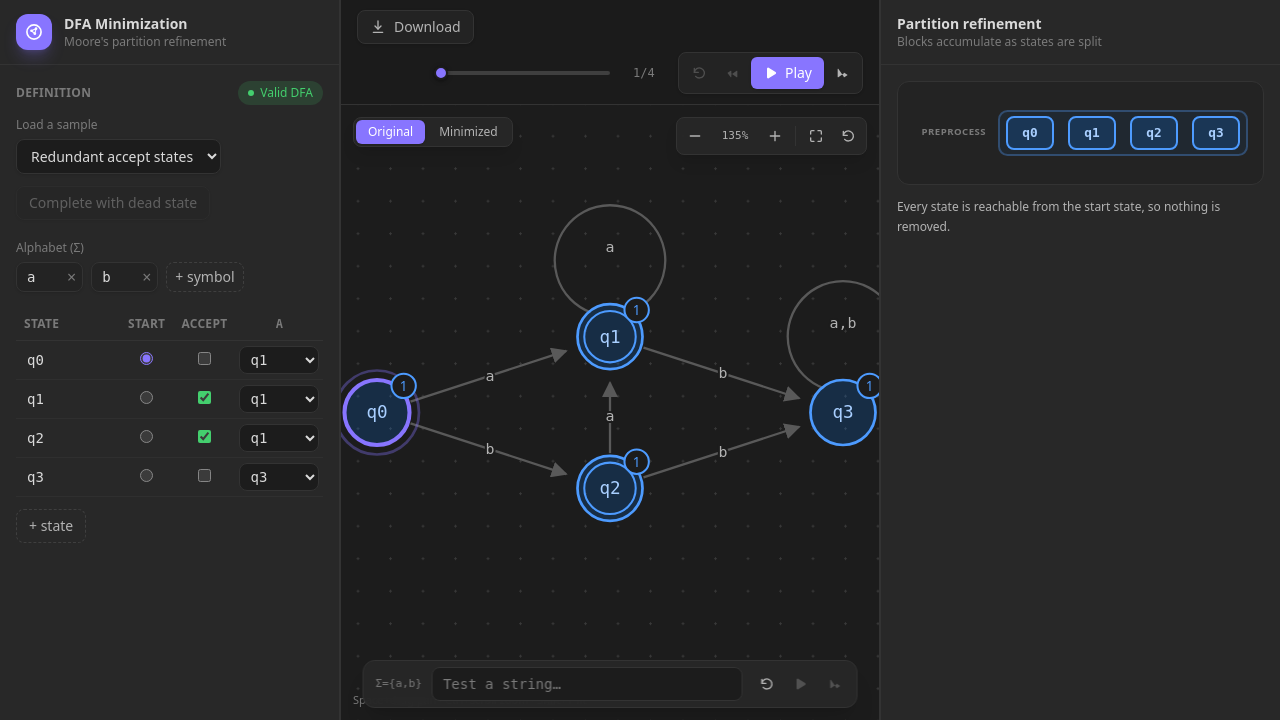
Test case: App › keeps earlier partition steps visible as you advance
Click the button named "next step". click: (842, 73)
box: [826,57,858,89]
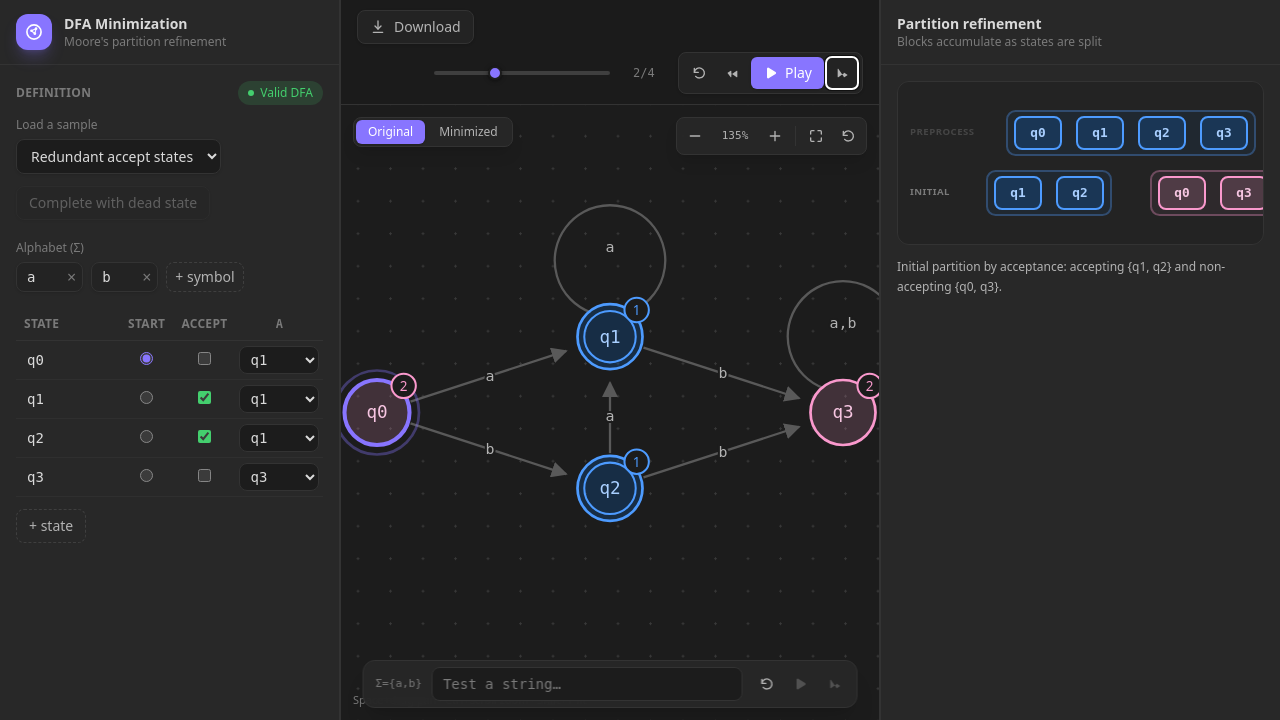
Click the button named "next step". click: (842, 73)
box: [826,57,858,89]
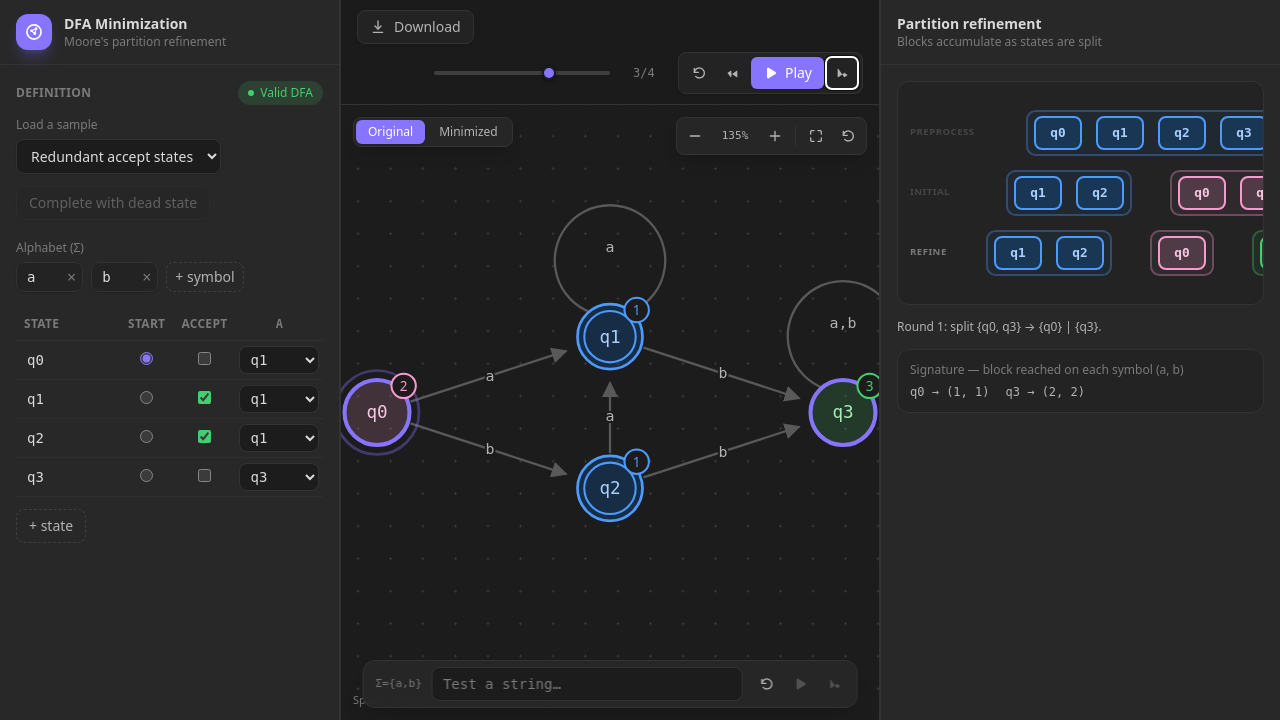
Click the button named "next step". click: (842, 73)
box: [826,57,858,89]
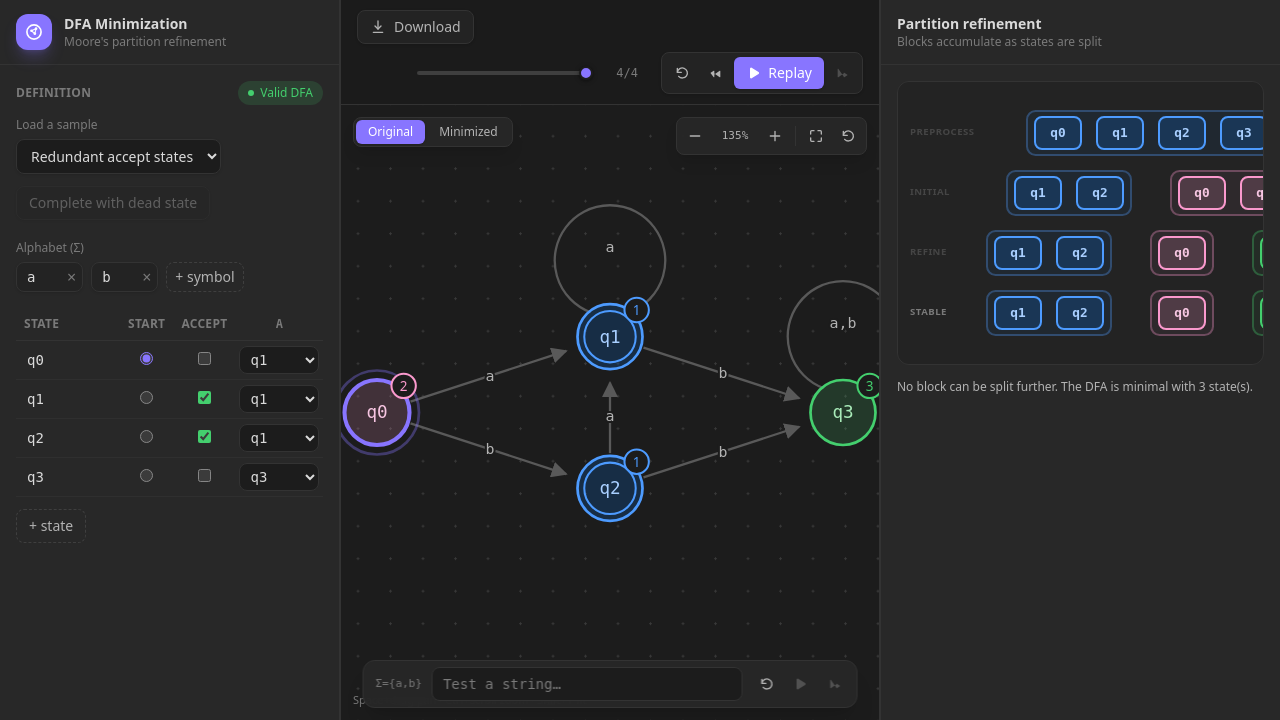
Check: the text "Initial" is shown, box [910,185,950,199]
Check: the text "Refine" is shown, box [910,245,947,259]
Check: the text "Stable" is shown, box [910,305,947,319]
